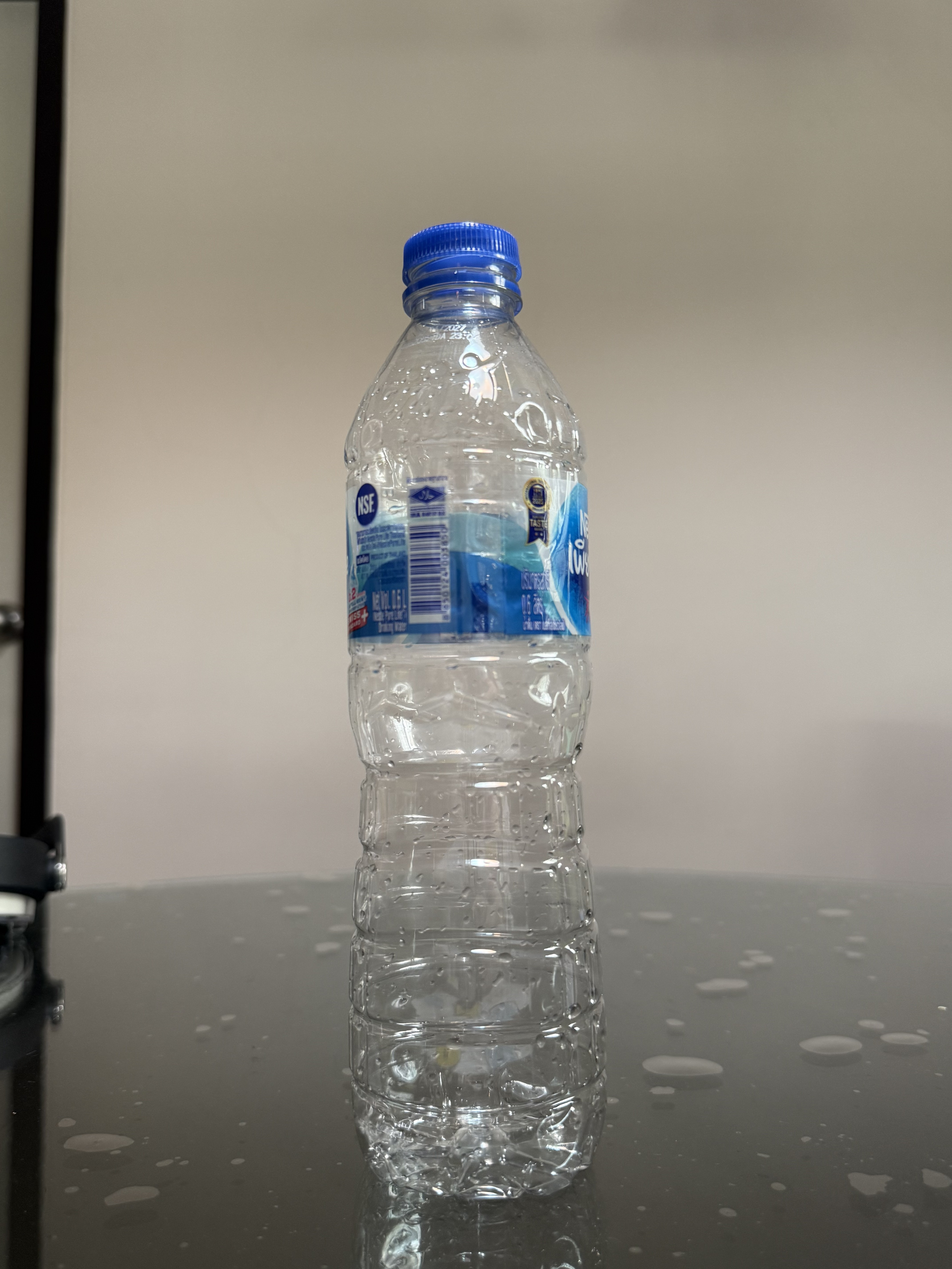half_cap: (398, 217, 525, 319)
